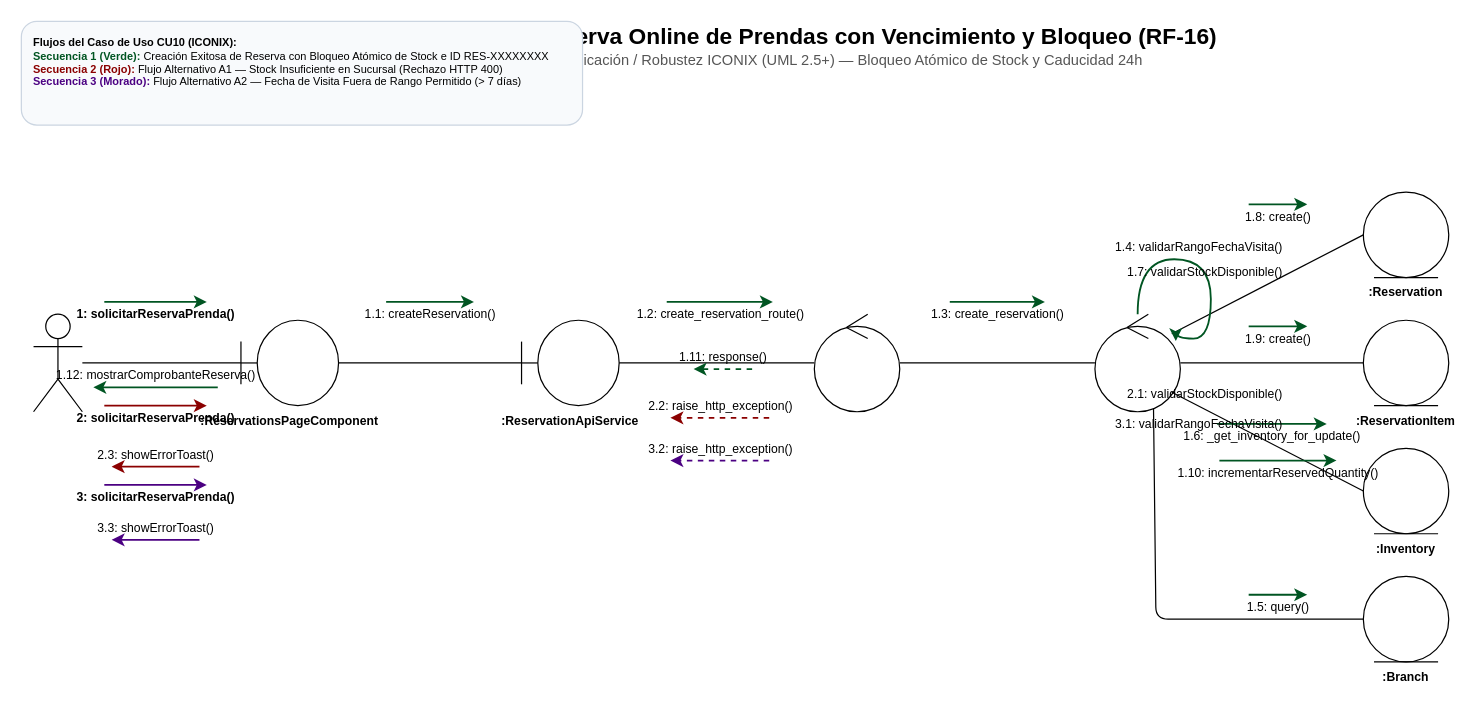
This 1476x706 diagram has some shape labels left out. Each missing label, with the centre of its shape:
":Cliente" goes at point 57,362.
":ReservationRoutes" goes at point 856,362.
":ReservationService" goes at point 1137,362.
